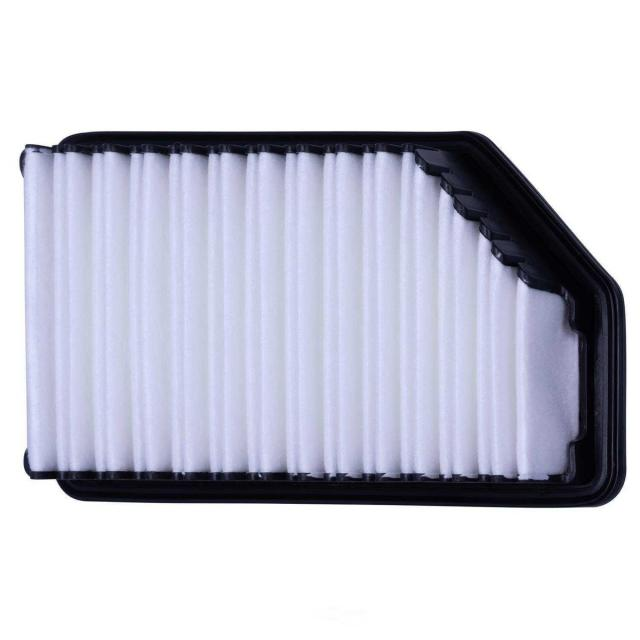air_filter: (16, 140, 619, 508)
